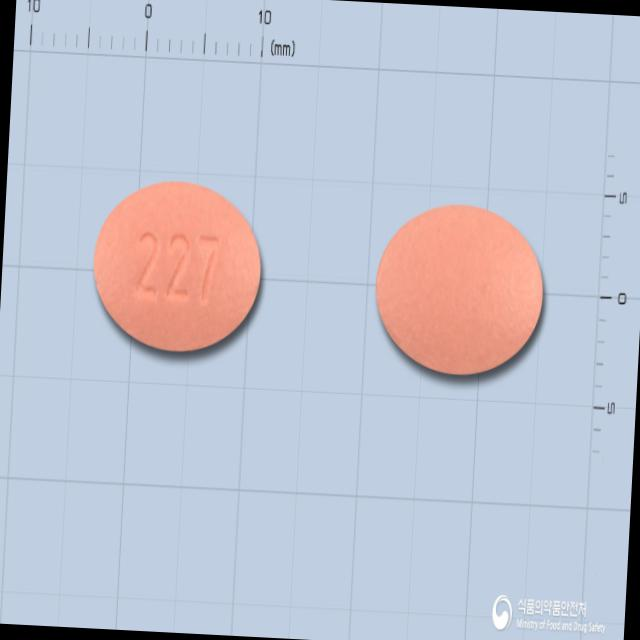Isentress HD: (88, 176, 266, 356)
